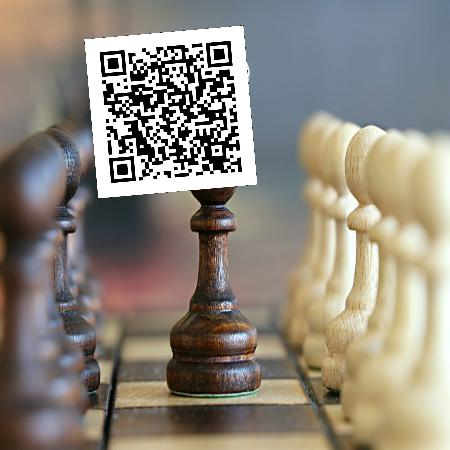qr_code: (84, 26, 256, 198)
